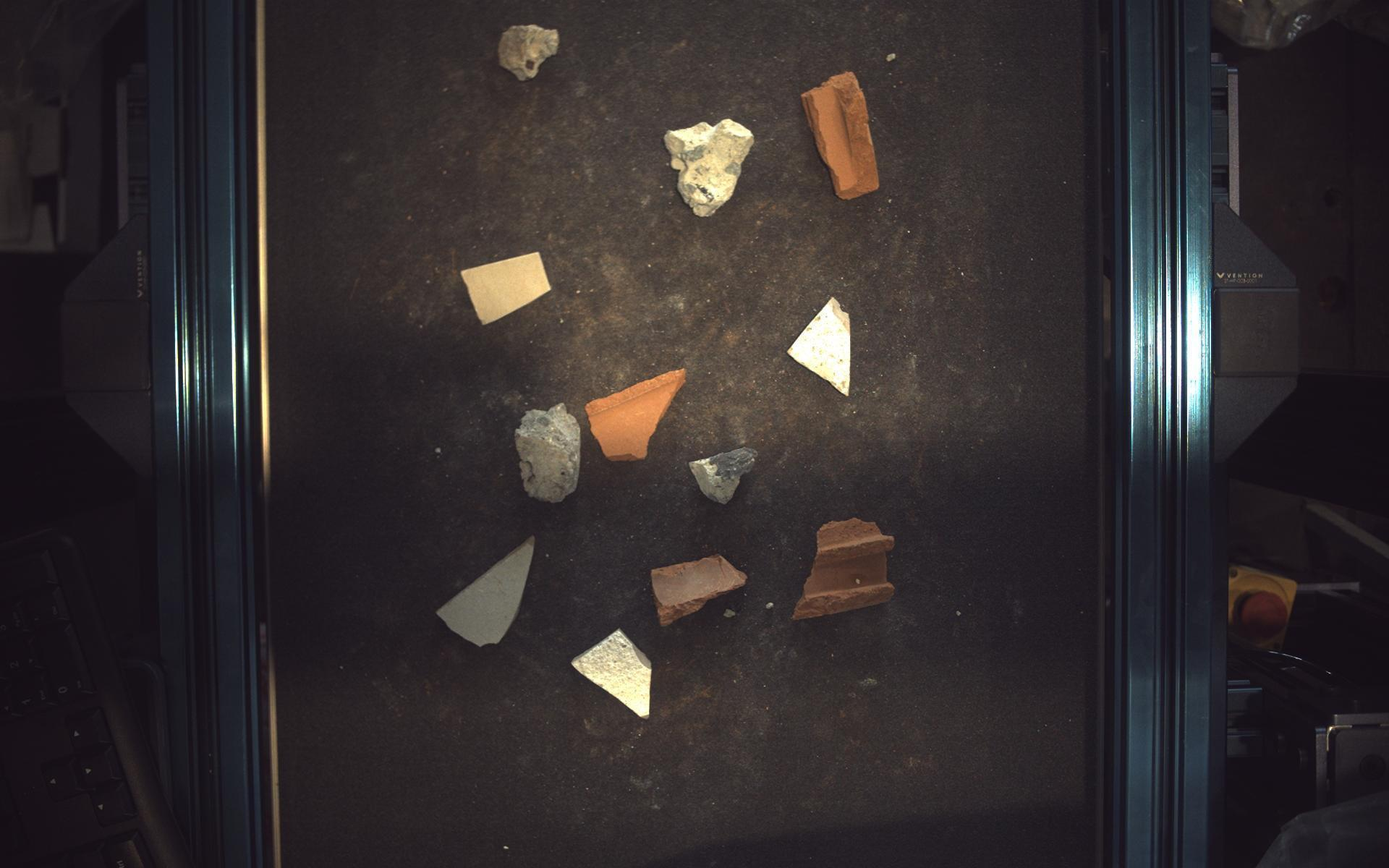brick: (794, 518, 896, 621), (803, 71, 880, 199), (586, 369, 686, 461), (653, 556, 747, 626)
concrete: (665, 118, 755, 216), (515, 403, 581, 503), (690, 448, 759, 505), (498, 23, 559, 80)
tile: (437, 537, 535, 647), (572, 631, 653, 719), (461, 252, 551, 324), (789, 297, 851, 395)
